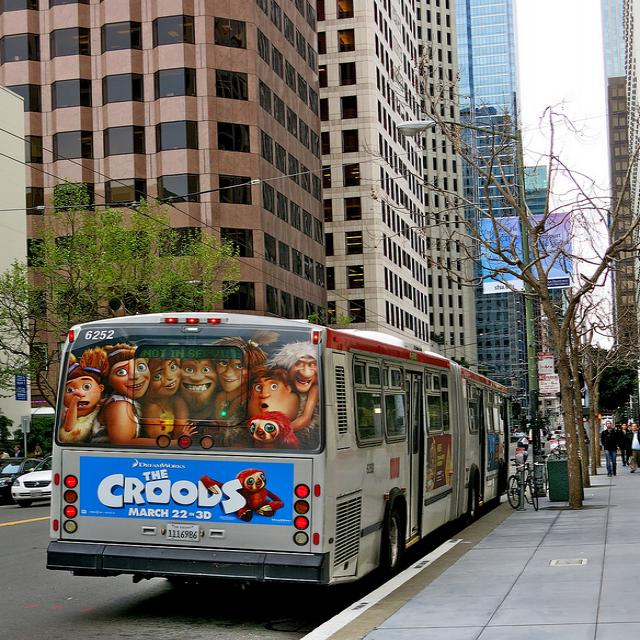AB: (41, 320, 522, 594)
